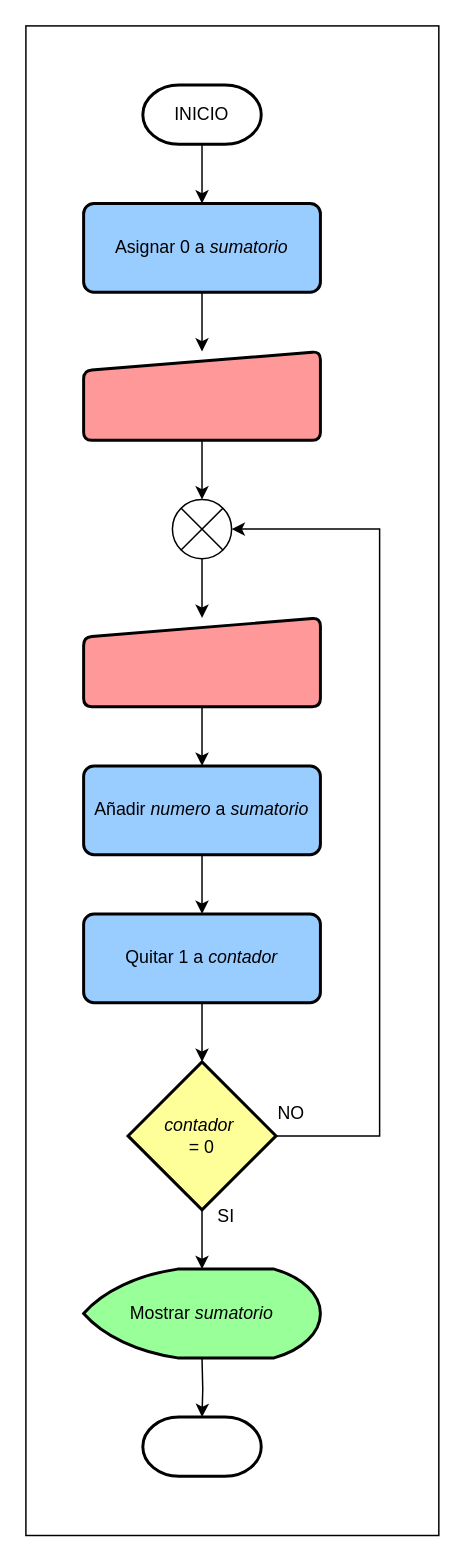
Some shapes in this 465 by 1561 pixel diagram are drawn without their labels. The shapes that lost their labels are listed below. From the top down, each one's box as (x1, y1, x2, y2) in pixels, then its label:
(81, 349, 321, 441): Asignar valor a contador
(81, 616, 321, 707): Asignar valor a numero
(141, 1415, 262, 1477): FIN
